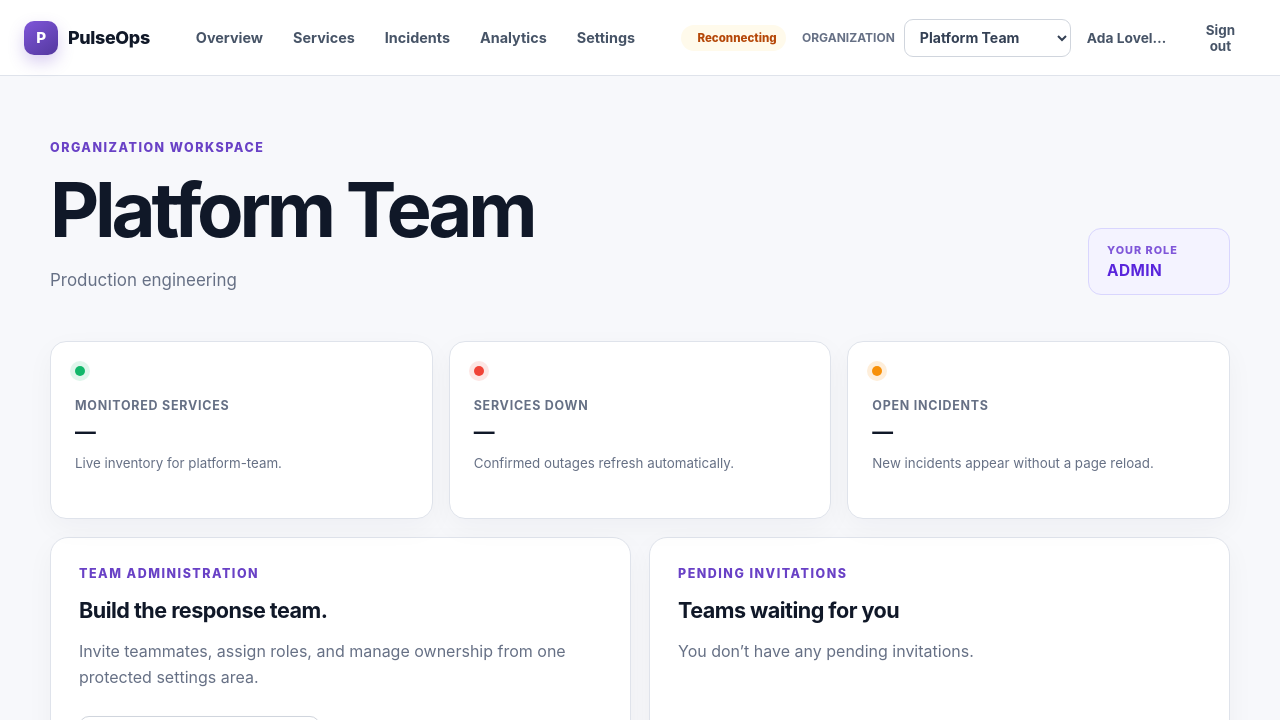
Test: PulseOps authentication routes › switches between organizations in the protected workspace
Expected: the heading "Platform Team" is shown, x1=50 y1=171 x2=533 y2=247
Select "Product Team" in the dropdown labelled "Organization" at [987, 38], box x1=904 y1=18 x2=1071 y2=56
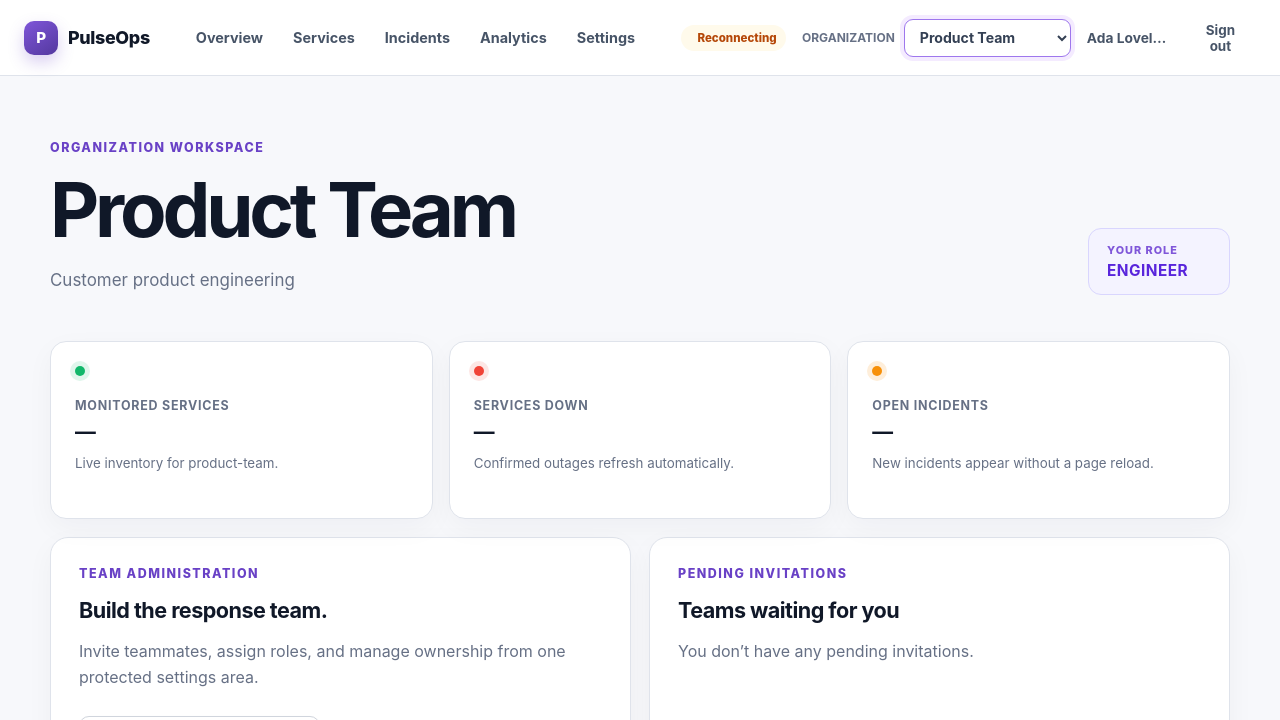
Expected: the heading "Product Team" is shown, x1=50 y1=171 x2=515 y2=247
